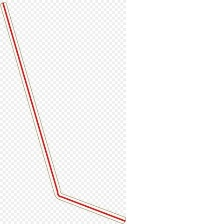drinking_straw: (0, 0, 127, 224)
